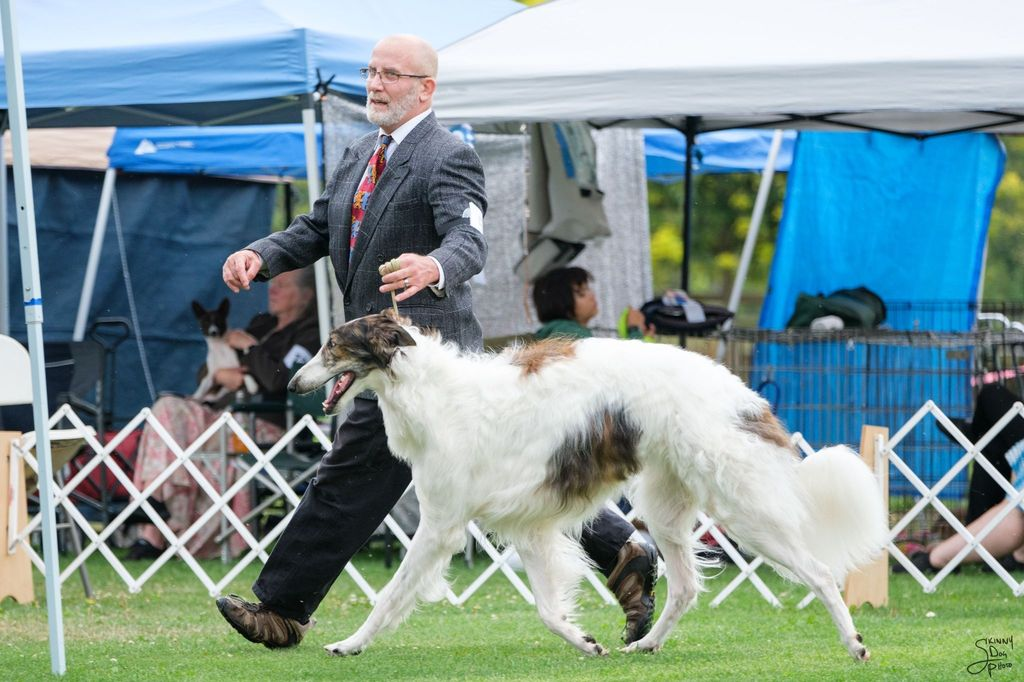borzoi: (270, 310, 905, 656)
